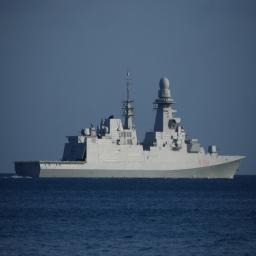Fragata: (16, 67, 247, 183)
